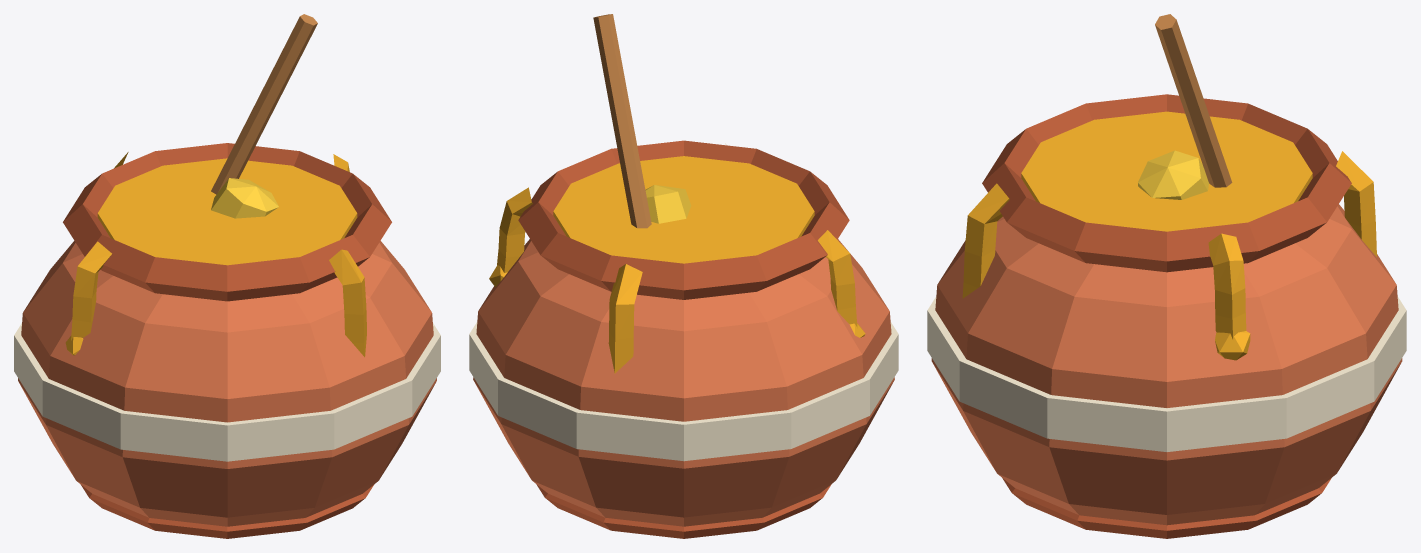
The model's file is honey-pot-hat.glb.
3 views of the same model, side by side, from view 1: azimuth 30°, elevation 25°; view 2: azimuth 150°, elevation 25°; view 3: azimuth 270°, elevation 25° (orthographic). The views are drawn at different scales.
Visible parts, largest first — view 1: honey-pot-hat; view 2: honey-pot-hat; view 3: honey-pot-hat.
Boxes of the visible parts, x1=… form: honey-pot-hat: x1=14, y1=14, x2=440, y2=538; honey-pot-hat: x1=469, y1=14, x2=898, y2=538; honey-pot-hat: x1=927, y1=14, x2=1406, y2=538.
Bounding box in the file's own units: 0.171 × 0.1956 × 0.171.
